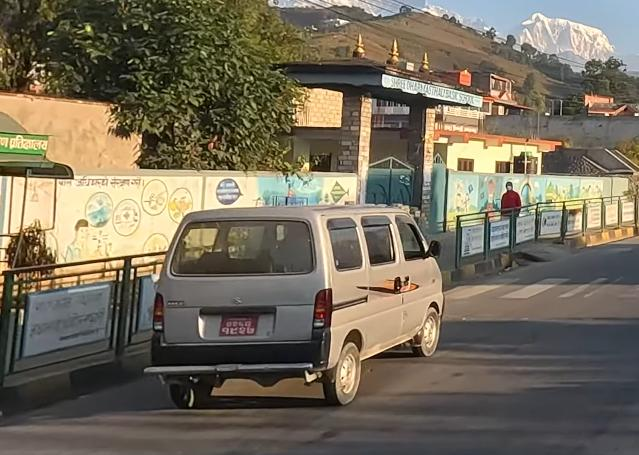van: (143, 193, 451, 405)
